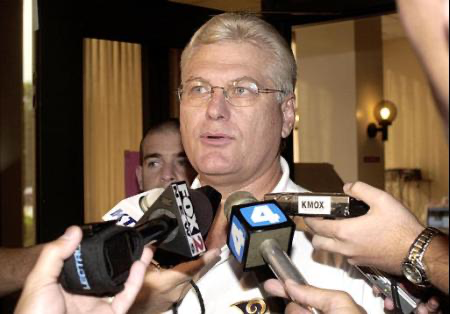Face: (177, 57, 277, 177), (142, 145, 194, 195)
